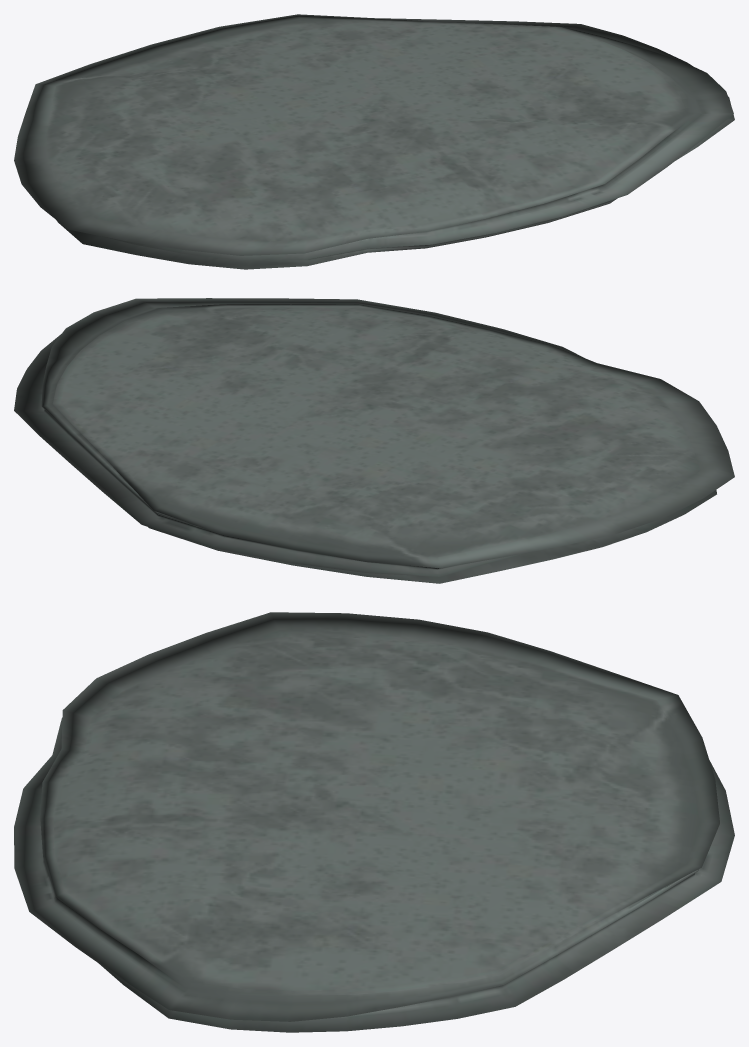
Rendered from thin_shale_07.glb.
3 renders of one model, top to bottom at view 1: azimuth 30°, elevation 25°; view 2: azimuth 150°, elevation 25°; view 3: azimuth 270°, elevation 25°, orthographic. The views are drawn at different scales.
Parts seen in each view (by area): view 1: thin_shale_07; view 2: thin_shale_07; view 3: thin_shale_07.
Boxes of the visible parts, box(x1,y1,x2,y2) form: thin_shale_07: box(14, 14, 734, 269); thin_shale_07: box(14, 298, 734, 583); thin_shale_07: box(14, 612, 734, 1032).
Bounding box in the file's own units: 0.0886 × 0.00515 × 0.0669.
1 material, 1 textured.
